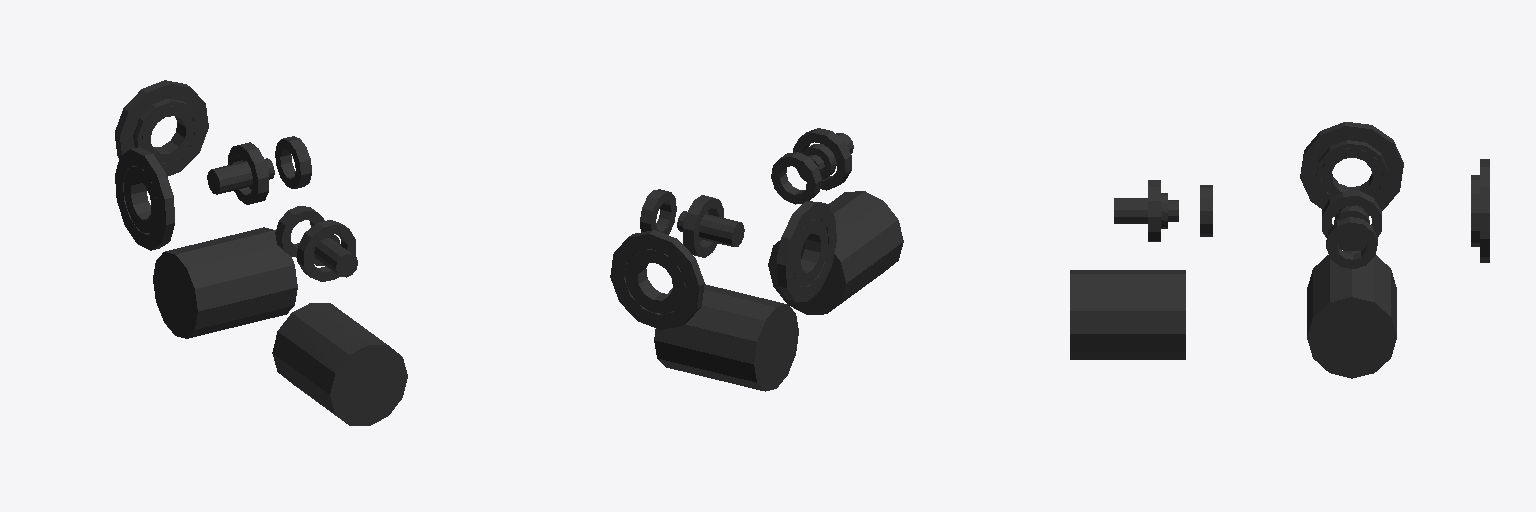
The model's file is roki2_simlify_Dual_Servo_Al_022Copyv1__1__1_mesh_3.obj.
3 views of the same model, side by side, from view 1: azimuth 30°, elevation 25°; view 2: azimuth 150°, elevation 25°; view 3: azimuth 270°, elevation 25° (orthographic).
Size of the model in its own units: 0.0352 by 0.0406 by 0.0807.